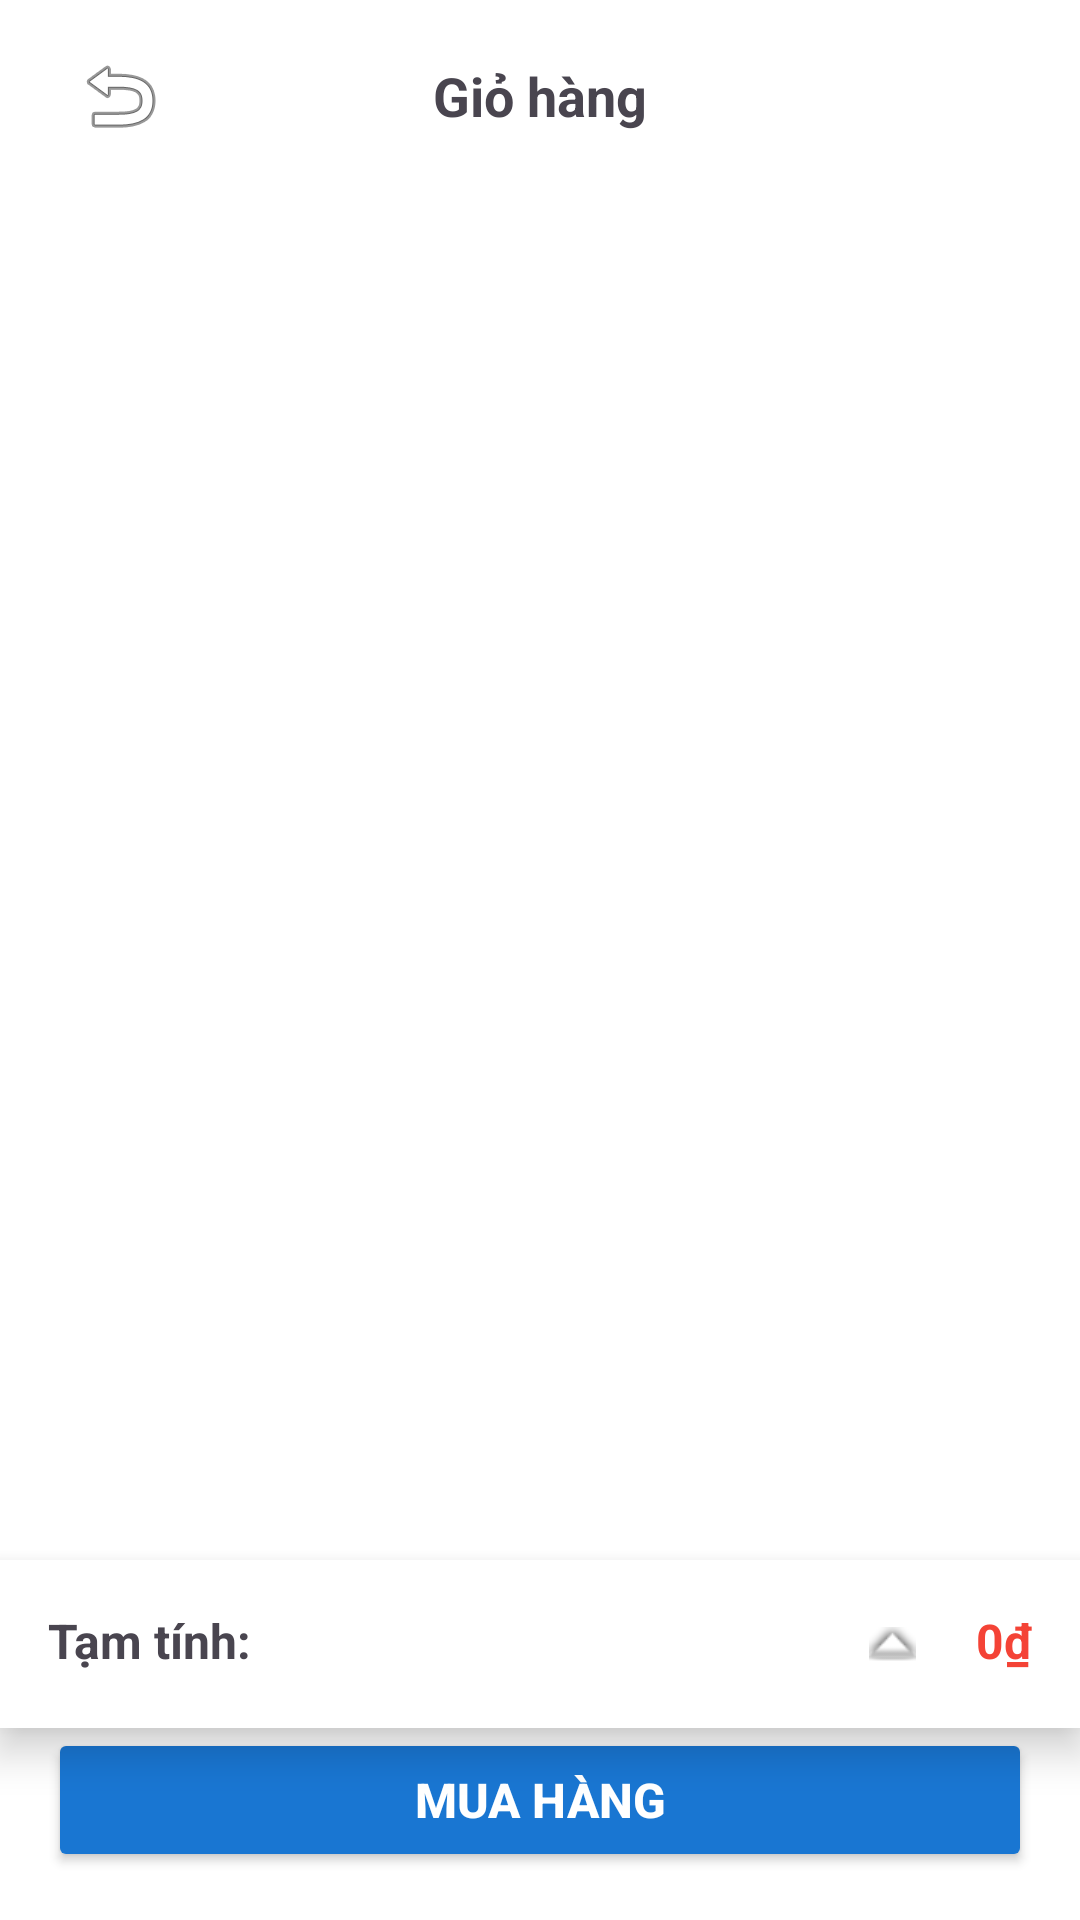

Named icons in this screenshot (1080*1920) and their centers, (x,y):
Back: (121,96)
Expand: (892,1644)
